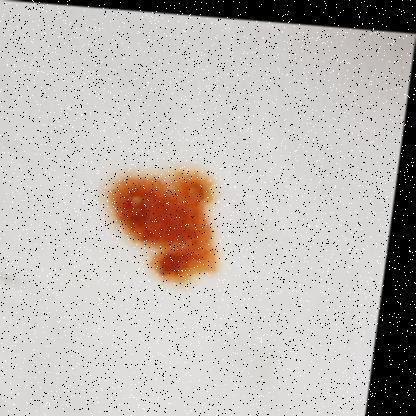kimchi: (106, 168, 220, 292)
